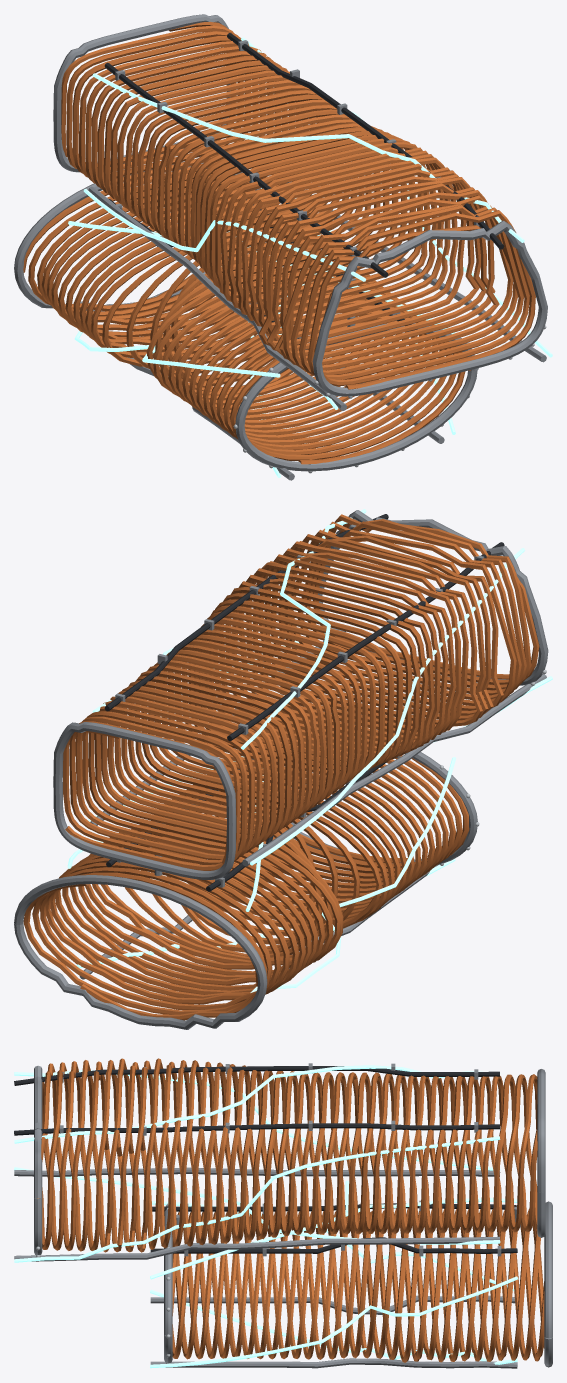
The model's file is strix_engine_lg.fbx.
3 views of the same model, one above another, from view 1: azimuth 30°, elevation 25°; view 2: azimuth 150°, elevation 25°; view 3: azimuth 270°, elevation 25° (orthographic). The views are drawn at different scales.
Parts seen in each view (by area): view 1: Engine_Legendary; view 2: Engine_Legendary; view 3: Engine_Legendary.
Part boxes in pixels (x1=…): Engine_Legendary: x1=14, y1=14, x2=552, y2=480; Engine_Legendary: x1=14, y1=509, x2=552, y2=1029; Engine_Legendary: x1=14, y1=1058, x2=552, y2=1368.
Size of the model in its own units: 78.61 by 88.5 by 164.
